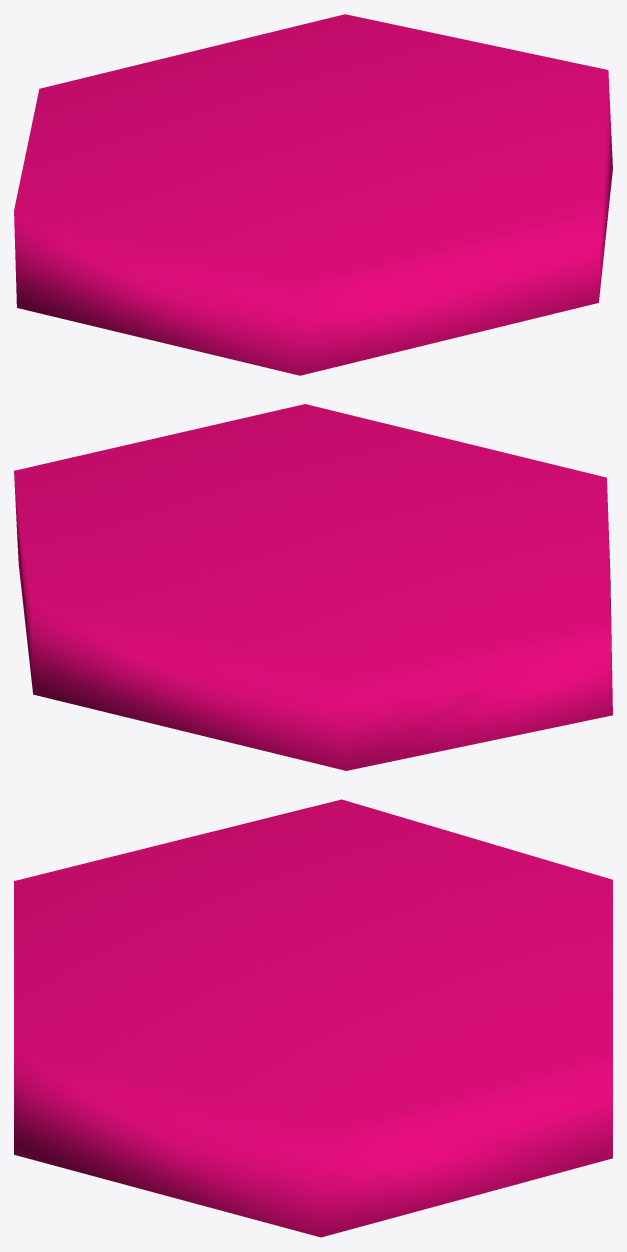
File: Floor_02_Slab.fbx
The picture shows the model from 3 angles, top to bottom: view 1: azimuth 30°, elevation 25°; view 2: azimuth 150°, elevation 25°; view 3: azimuth 270°, elevation 25°; orthographic projection. The views are drawn at different scales.
Parts seen in each view (by area): view 1: Floor_02_Slab; view 2: Floor_02_Slab; view 3: Floor_02_Slab.
Part boxes in pixels (left/top/right/bottom): Floor_02_Slab: left=14, top=14, right=612, bottom=375; Floor_02_Slab: left=14, top=404, right=612, bottom=770; Floor_02_Slab: left=14, top=799, right=612, bottom=1237.
Size of the model in its own units: 43.38 by 6.68 by 33.34.
